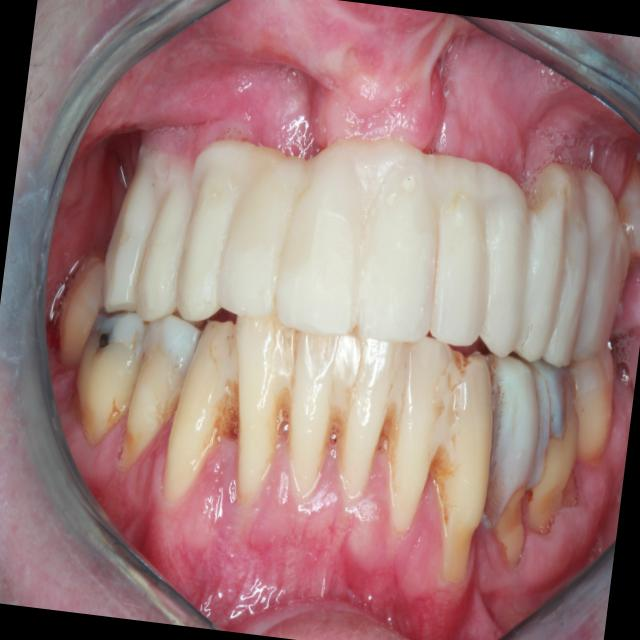tooth: (357, 266, 427, 382), (387, 420, 447, 553), (314, 262, 382, 378), (253, 233, 309, 368), (431, 268, 492, 389), (249, 405, 308, 530), (336, 412, 390, 541), (361, 413, 416, 537), (308, 406, 360, 529), (215, 388, 270, 503), (280, 258, 336, 370), (232, 401, 288, 511), (284, 407, 330, 520), (407, 283, 458, 379), (238, 238, 278, 359), (466, 282, 508, 396), (457, 414, 507, 507), (214, 235, 257, 343), (424, 434, 466, 543), (441, 433, 482, 531), (484, 292, 520, 393), (225, 251, 261, 351), (494, 295, 528, 397), (206, 382, 246, 468), (461, 434, 497, 526), (505, 299, 533, 399)
